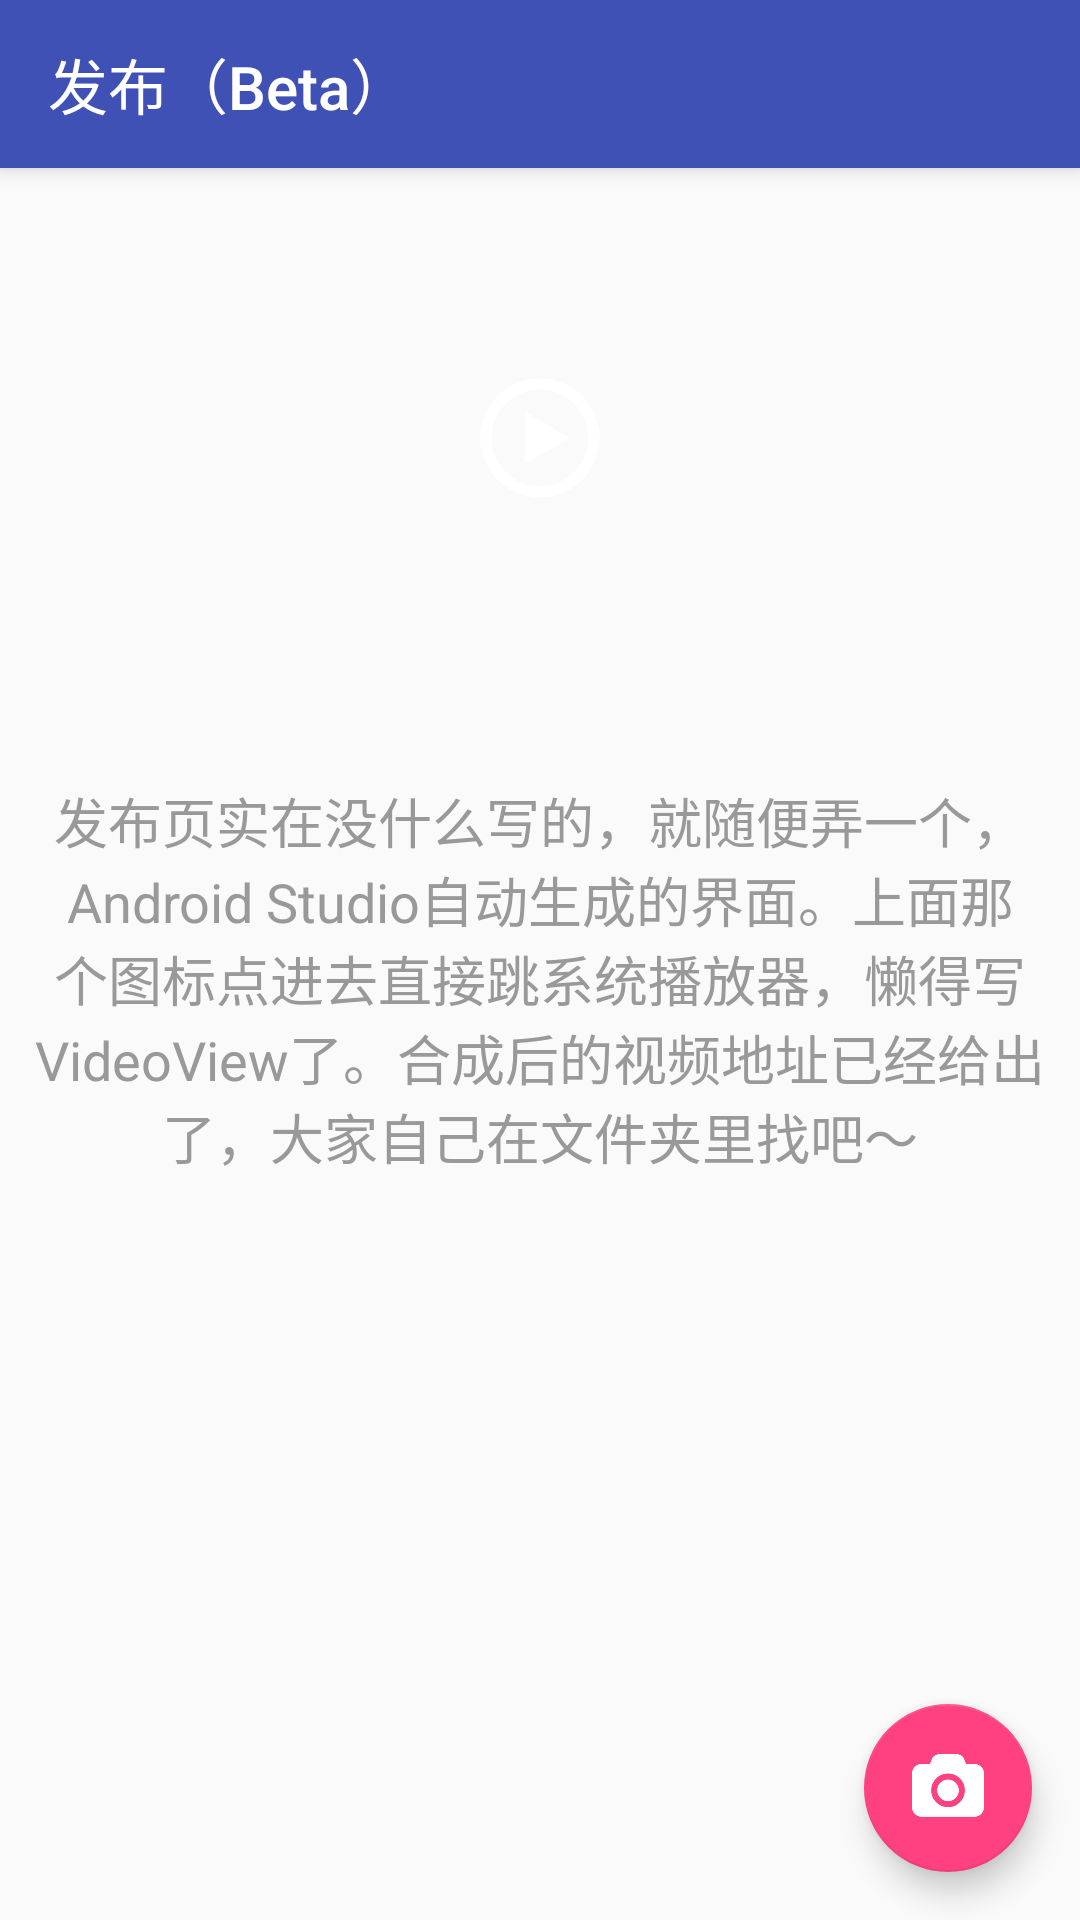

Icon click points for this 1080 × 1920 phone screenshot, format (x,y):
publish camera: (948,1788)
